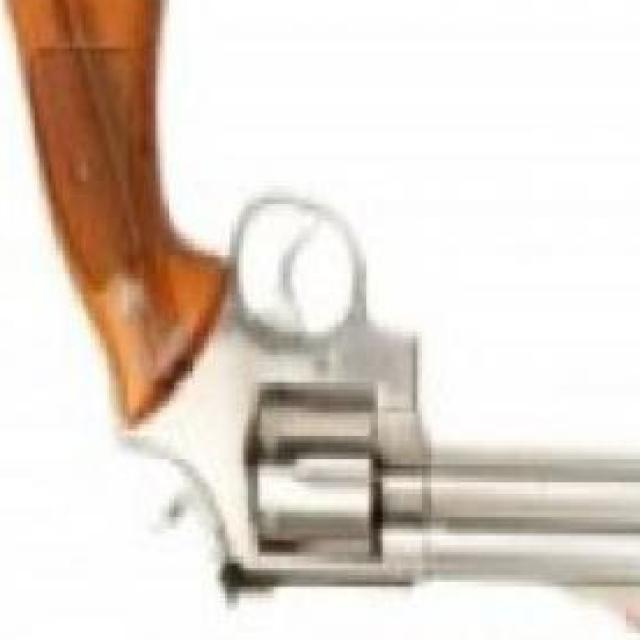pistol: (9, 0, 640, 626)
